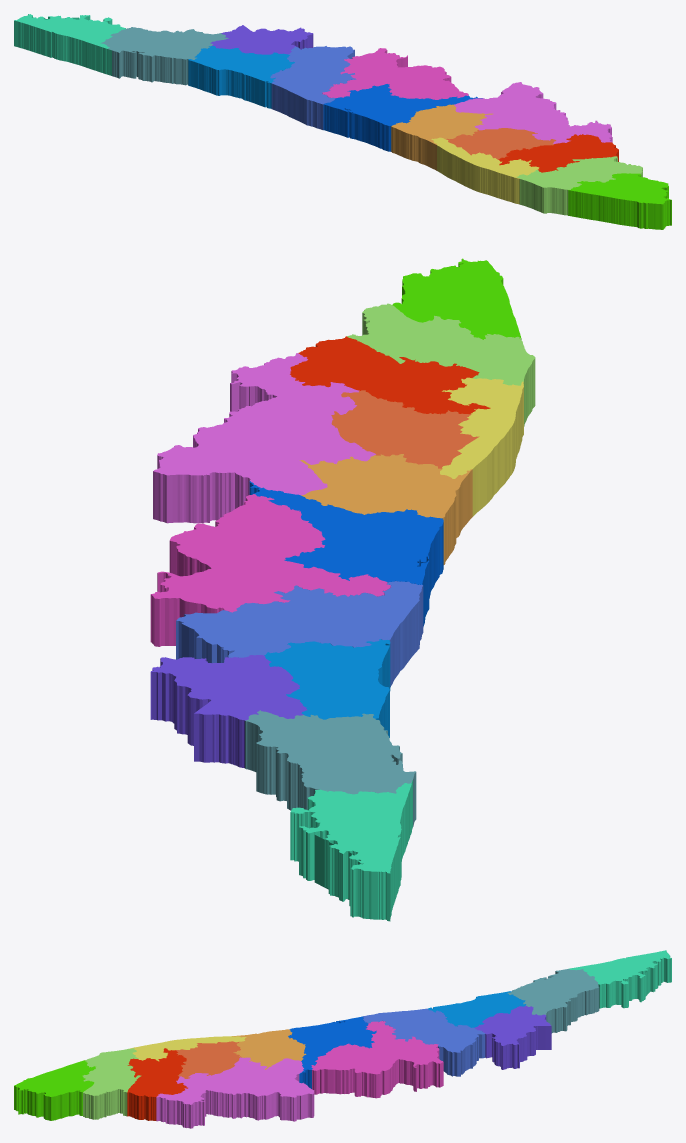
The model's file is kerala_map.glb.
3 renders of one model, top to bottom at view 1: azimuth 30°, elevation 25°; view 2: azimuth 150°, elevation 25°; view 3: azimuth 270°, elevation 25°, orthographic. The views are drawn at different scales.
Parts seen in each view (by area): view 1: district.011, district.003, district.008, district.012, district.002, district.004, district.007, district.009, district.005, district, district.001, district.010 (+2 smaller); view 2: district.002, district.009, district.008, district.004, district.003, district.013, district.012, district.001, district.005, district.010, district.007, district (+2 smaller); view 3: district.002, district.009, district.008, district.003, district.004, district.011, district.013, district.005, district.010, district.012, district.001, district.007 (+2 smaller).
Boxes of the visible parts, x1,y1,x2,y2 form: district.011: [568, 173, 671, 229]; district.003: [100, 27, 228, 85]; district.008: [270, 46, 356, 129]; district.012: [323, 84, 482, 151]; district.002: [454, 82, 612, 143]; district.004: [14, 14, 125, 75]; district.007: [188, 46, 294, 108]; district.009: [322, 48, 468, 99]; district.005: [516, 156, 642, 215]; district: [431, 137, 539, 204]; district.001: [391, 104, 492, 170]; district.010: [498, 134, 618, 172]; district.002: [153, 353, 375, 523]; district.009: [150, 494, 390, 646]; district.008: [176, 581, 423, 687]; district.004: [290, 780, 412, 921]; district.003: [245, 710, 416, 826]; district.013: [150, 655, 307, 768]; district.012: [249, 481, 443, 626]; district.001: [299, 454, 472, 564]; district.005: [347, 303, 535, 426]; district.010: [290, 336, 490, 414]; district.007: [264, 639, 390, 737]; district: [440, 377, 523, 516]; district.002: [156, 1057, 314, 1128]; district.009: [311, 1021, 443, 1098]; district.008: [363, 1008, 485, 1076]; district.003: [507, 969, 599, 1033]; district.004: [568, 950, 671, 1008]; district.011: [14, 1060, 95, 1120]; district.013: [474, 1005, 551, 1069]; district.005: [82, 1048, 141, 1119]; district.010: [127, 1048, 187, 1120]; district.012: [288, 1016, 376, 1088]; district.001: [232, 1029, 306, 1069]; district.007: [427, 991, 526, 1027].
Size of the model in its own units: 283826 by 21226 by 510102.
